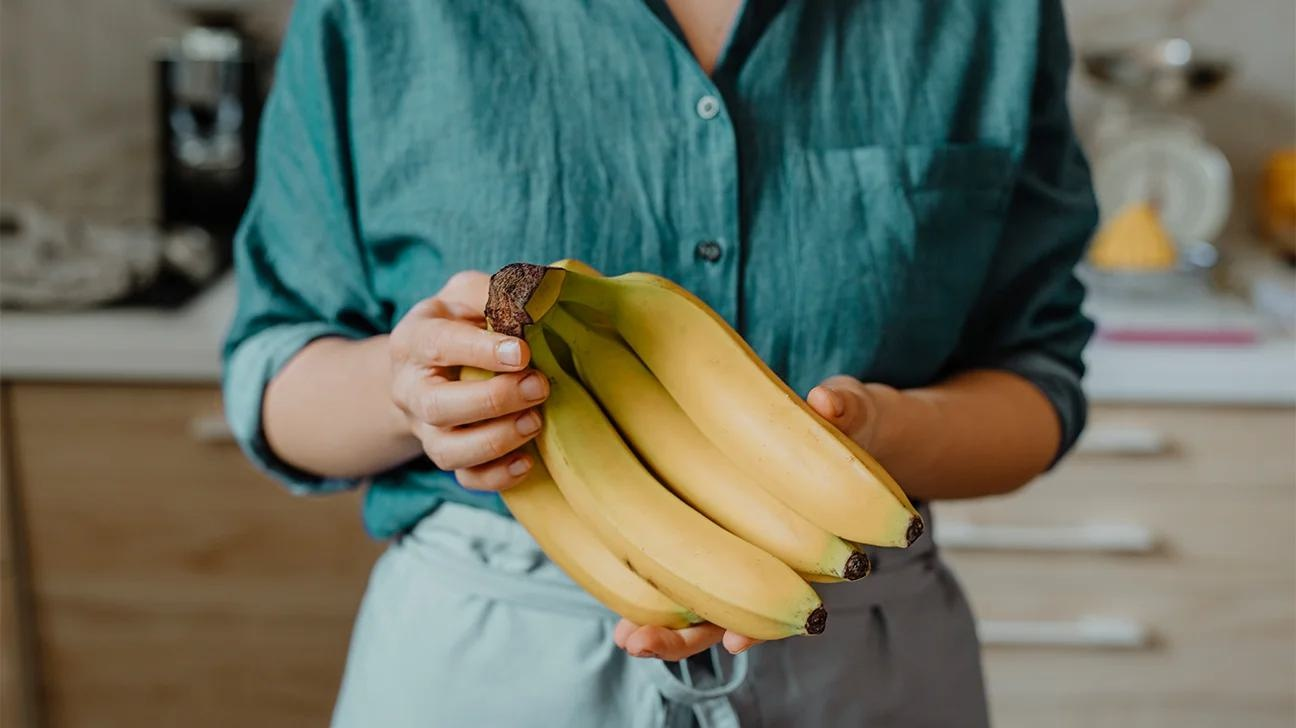apricot: (460, 256, 925, 643)
banana: (457, 257, 925, 642)
grapes: (843, 551, 870, 581), (805, 606, 827, 634)
melon: (459, 257, 925, 643), (1086, 200, 1177, 273)
